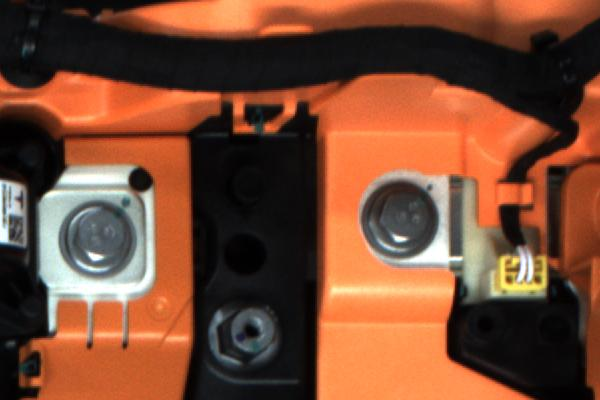nut_b: (60, 194, 138, 286), (357, 182, 437, 261)
